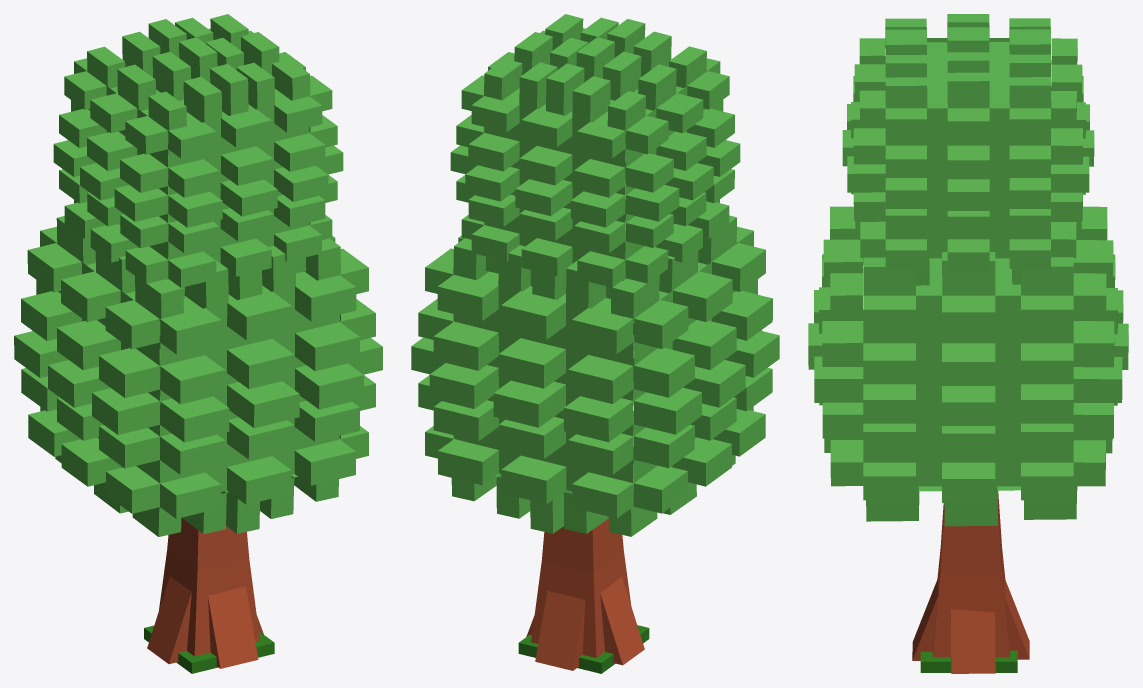
Rendered from ARVORE3.fbx.
3 renders of one model, left to right at view 1: azimuth 30°, elevation 25°; view 2: azimuth 150°, elevation 25°; view 3: azimuth 270°, elevation 25°, orthographic.
Parts seen in each view (by area): view 1: Cubo.007, Cubo.009; view 2: Cubo.007, Cubo.009; view 3: Cubo.007, Cubo.009.
Boxes of the visible parts, x1,y1,x2,y2 form: Cubo.007: [14, 14, 382, 536]; Cubo.009: [144, 518, 274, 673]; Cubo.007: [411, 14, 779, 536]; Cubo.009: [518, 518, 649, 673]; Cubo.007: [808, 14, 1128, 526]; Cubo.009: [912, 494, 1029, 673].
Size of the model in its own units: 345 by 724 by 344.
